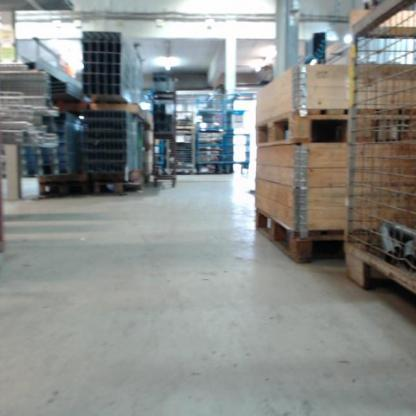pallet: (255, 106, 416, 149), (254, 206, 361, 264), (42, 181, 92, 197), (92, 182, 148, 196)
stillage: (341, 1, 415, 318), (164, 127, 200, 181), (168, 110, 197, 136)
